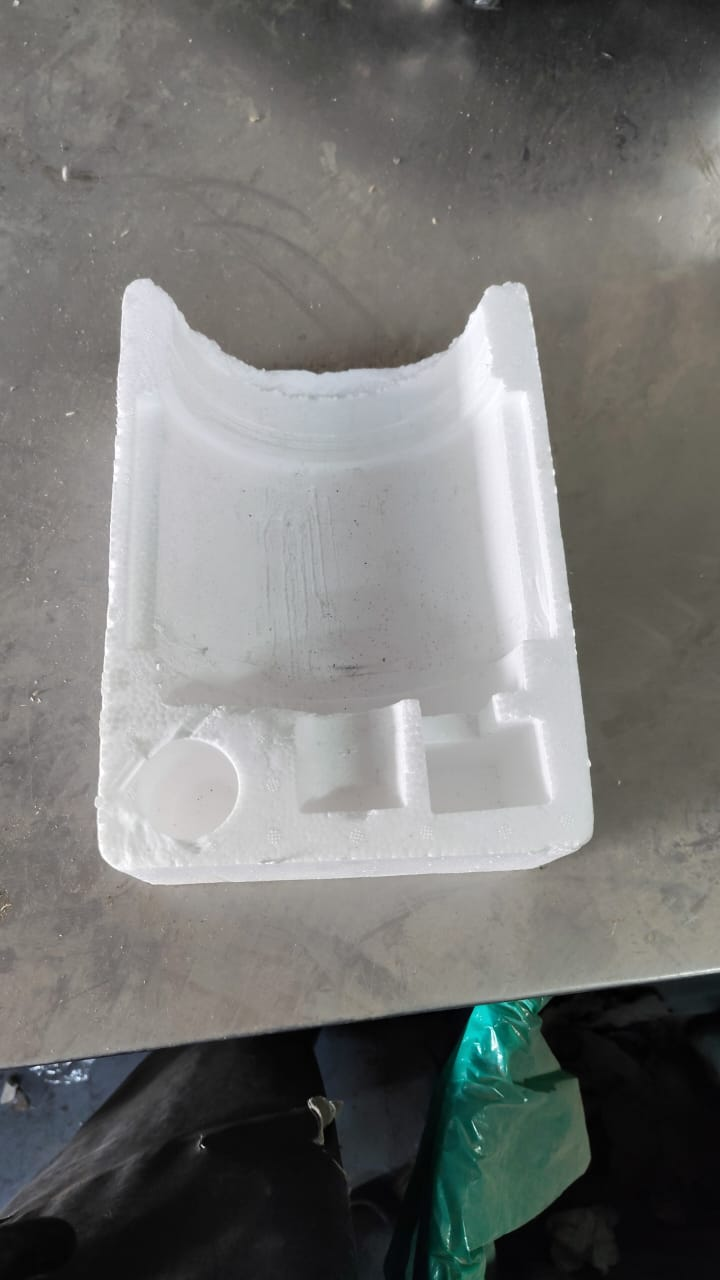Ordinario: (95, 275, 596, 884)
